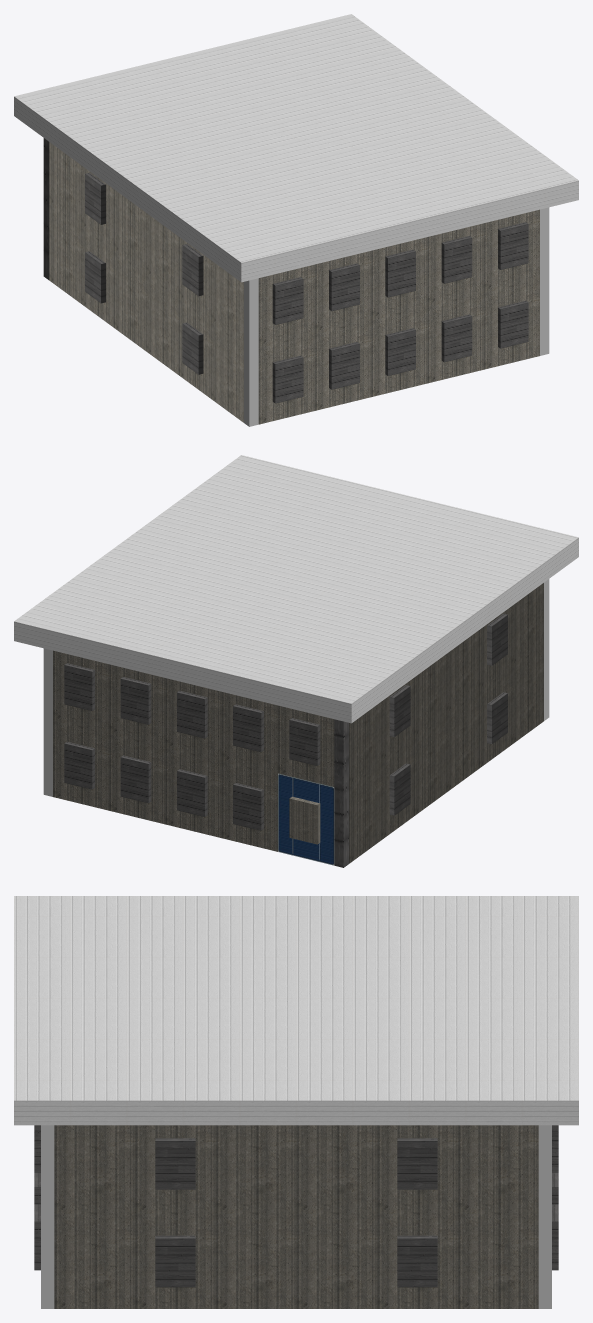
3 renders of one model, top to bottom at view 1: azimuth 30°, elevation 25°; view 2: azimuth 150°, elevation 25°; view 3: azimuth 270°, elevation 25°, orthographic. The views are drawn at different scales.
Parts seen in each view (by area): view 1: texture 0, texture 2, texture 3, texture 4; view 2: texture 0, texture 2, texture 3, texture 1, texture 4; view 3: texture 0, texture 2, texture 3, texture 4.
Part boxes in pixels (bbox=[...]): texture 0: bbox=[14, 14, 578, 282]; texture 2: bbox=[49, 142, 539, 424]; texture 3: bbox=[43, 138, 528, 403]; texture 4: bbox=[244, 207, 549, 426]; texture 0: bbox=[14, 455, 578, 723]; texture 2: bbox=[53, 583, 543, 863]; texture 3: bbox=[64, 613, 507, 867]; texture 1: bbox=[278, 773, 334, 865]; texture 4: bbox=[43, 579, 549, 796]; texture 0: bbox=[14, 896, 578, 1125]; texture 2: bbox=[54, 1125, 538, 1308]; texture 3: bbox=[34, 1125, 558, 1287]; texture 4: bbox=[41, 1125, 551, 1308].
Size of the model in its own units: 36 by 18 by 42.
